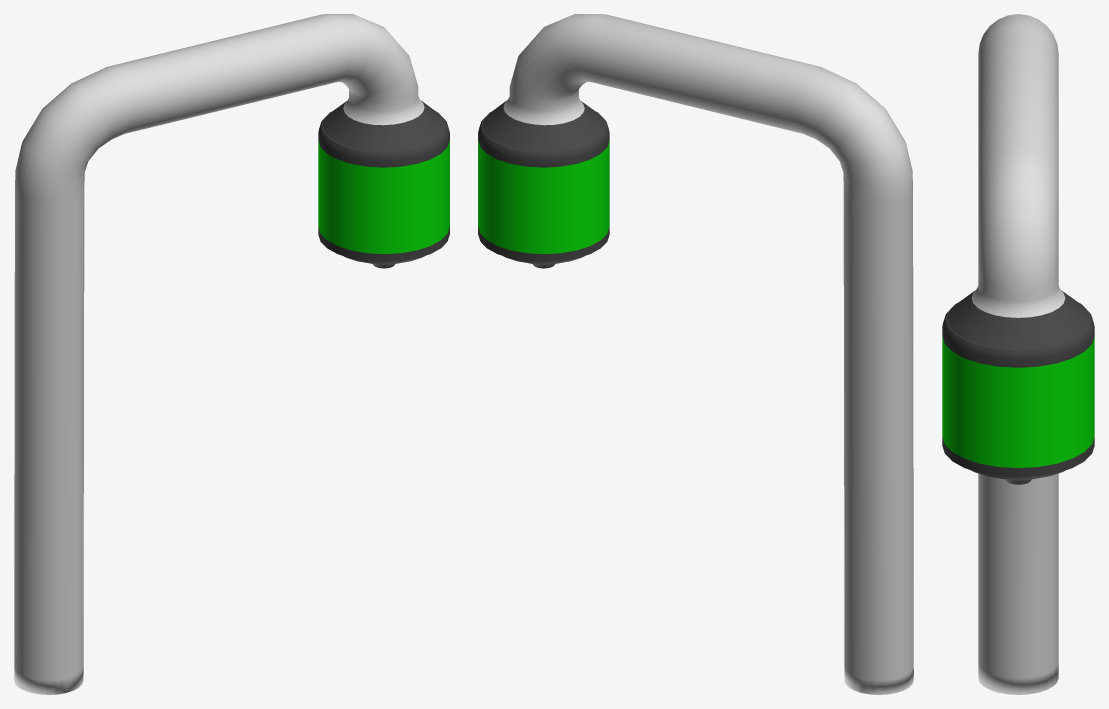
Rendered from Renk_makinesi.fbx.
3 views of the same model, side by side, from view 1: azimuth 30°, elevation 25°; view 2: azimuth 150°, elevation 25°; view 3: azimuth 270°, elevation 25° (orthographic). The views are drawn at different scales.
Parts seen in each view (by area): view 1: Cylinder.005, Cylinder.006; view 2: Cylinder.005, Cylinder.006; view 3: Cylinder.005, Cylinder.006.
Part boxes in pixels (<box>): Cylinder.005: <box>14,14,445,694</box>; Cylinder.006: <box>318,111,449,268</box>; Cylinder.005: <box>482,14,913,694</box>; Cylinder.006: <box>478,111,609,268</box>; Cylinder.005: <box>947,14,1089,694</box>; Cylinder.006: <box>942,303,1094,484</box>.
Size of the model in its own units: 187 by 252 by 50.53.
